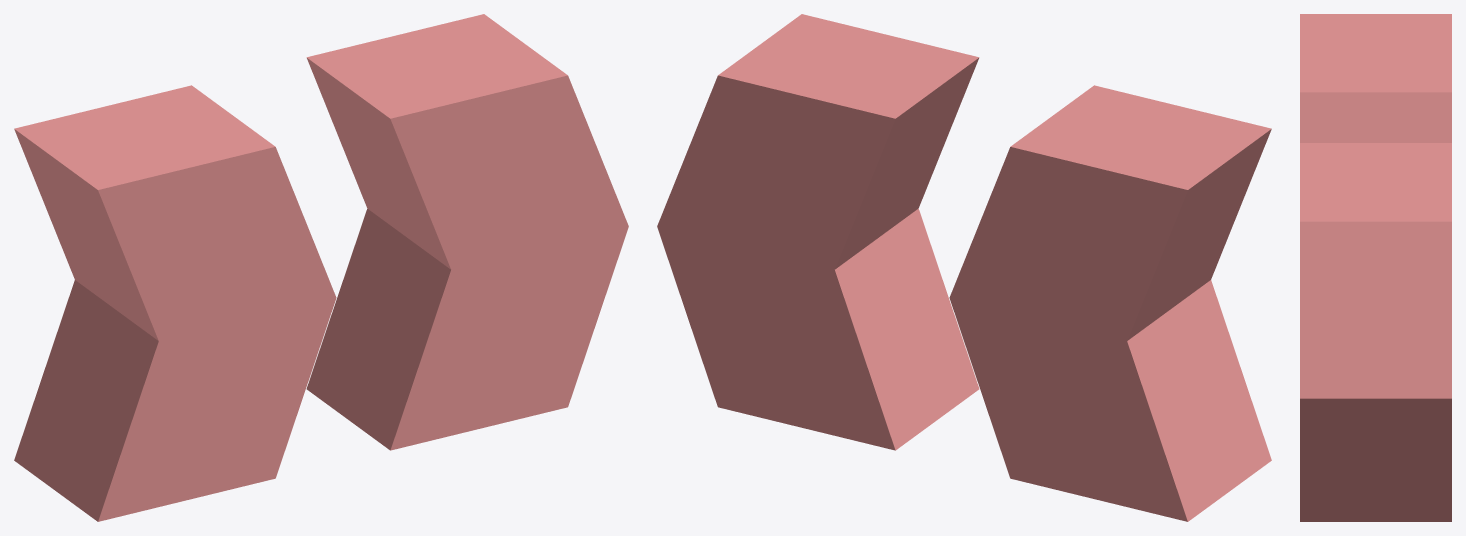
File: powerup.gltf
3 renders of one model, left to right at view 1: azimuth 30°, elevation 25°; view 2: azimuth 150°, elevation 25°; view 3: azimuth 270°, elevation 25°, orthographic. The views are drawn at different scales.
Visible parts, largest first — view 1: Cube; view 2: Cube; view 3: Cube.
Part boxes in pixels (x1=…): Cube: x1=14, y1=14, x2=628, y2=521; Cube: x1=657, y1=14, x2=1271, y2=521; Cube: x1=1300, y1=14, x2=1451, y2=521.
Bounding box in the file's own units: 3.35 × 2 × 0.9169.
1 material, 1 textured.
